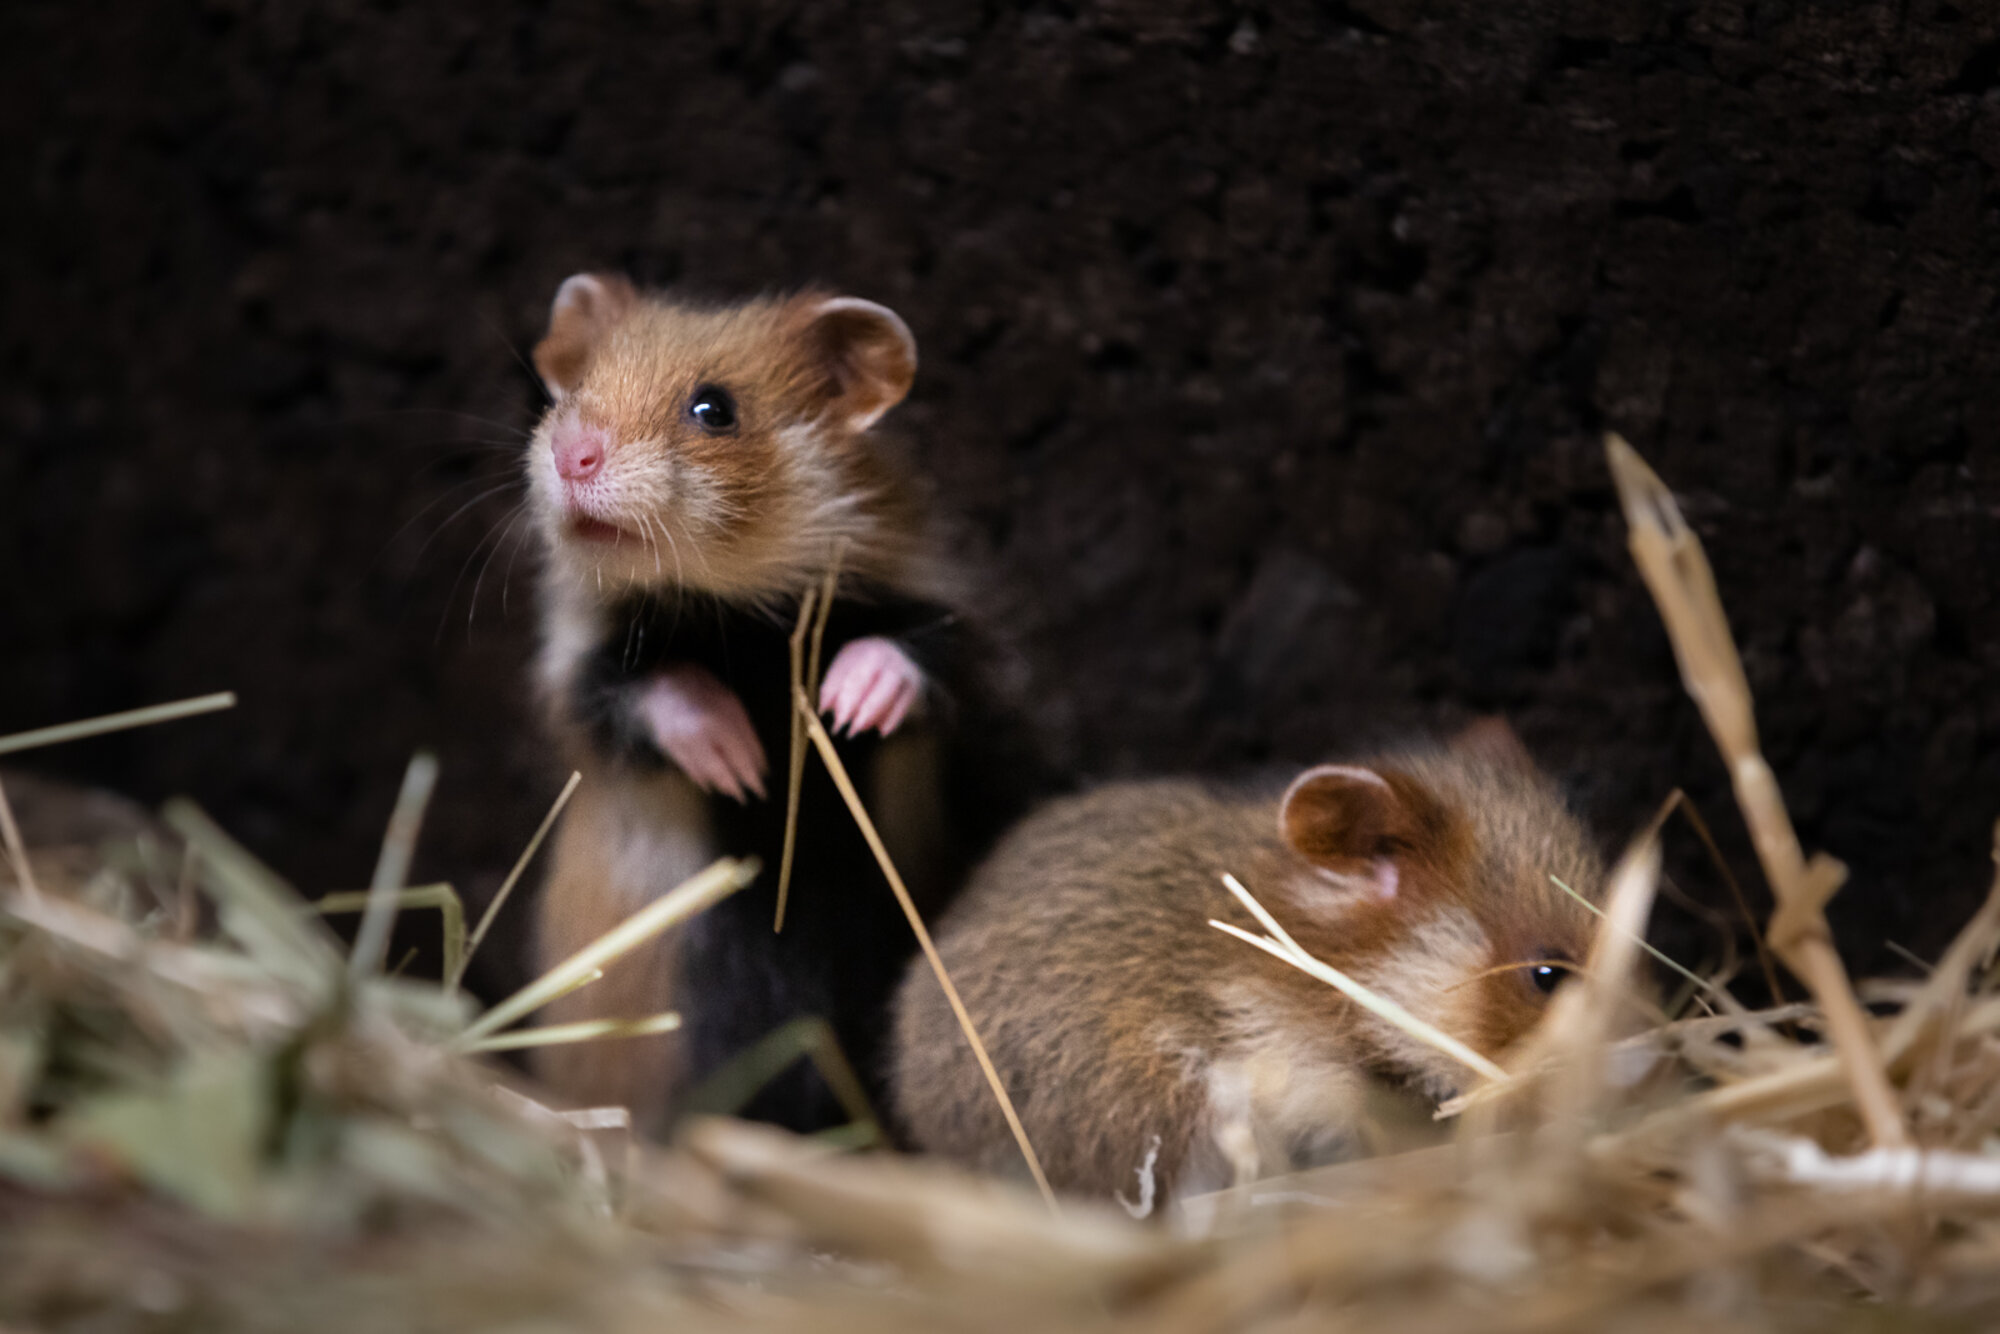hamester: (501, 259, 972, 875), (1179, 724, 1671, 1091)
